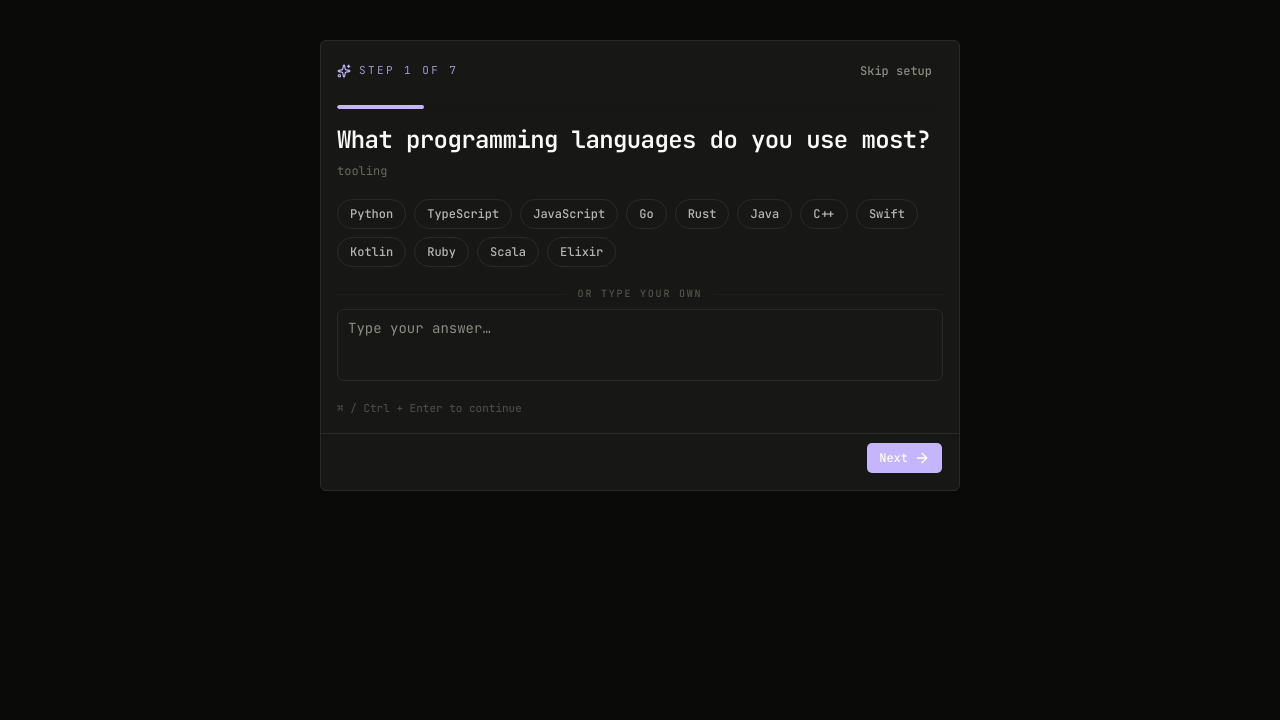
Test case: OnboardingQuestionnaire › shows error when required field is empty
Click the button "Next".
click(905, 458)  # box [866,442,943,474]
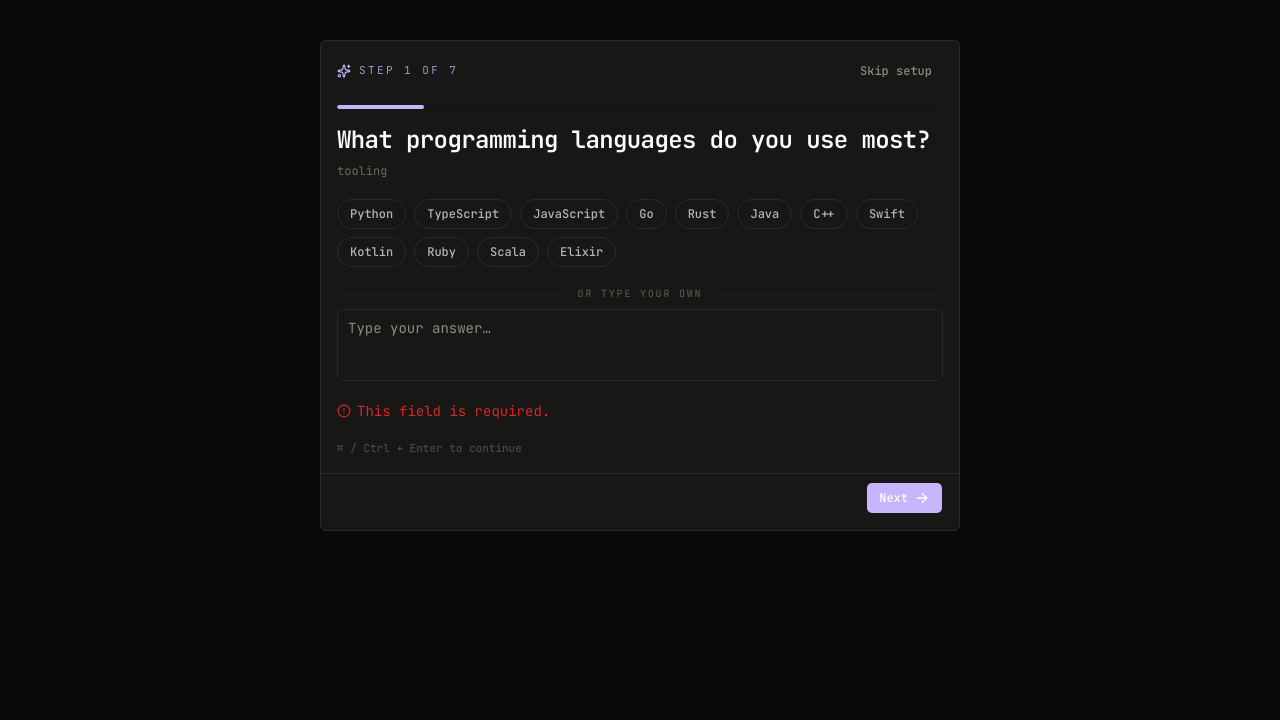
Expected: the text "Step 1 of 7" is shown, [359,63,458,79]
Now the text "This field is required." is shown, box [337,402,550,420]
